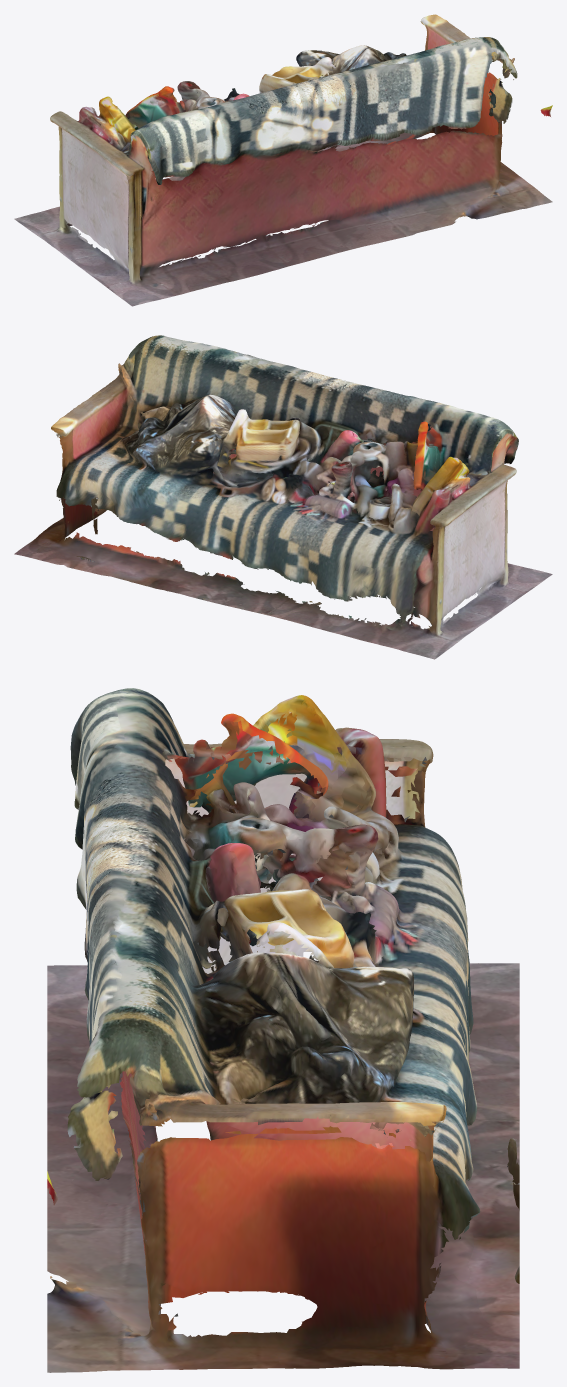
The model's file is modelo.glb.
3 renders of one model, top to bottom at view 1: azimuth 30°, elevation 25°; view 2: azimuth 150°, elevation 25°; view 3: azimuth 270°, elevation 25°, orthographic. The views are drawn at different scales.
Parts seen in each view (by area): view 1: Object_2; view 2: Object_2; view 3: Object_2.
Boxes of the visible parts, x1,y1,x2,y2 form: Object_2: (14,14,552,306); Object_2: (14,335,552,659); Object_2: (47,688,519,1372).
Bounding box in the file's own units: 2.15 × 0.8102 × 1.05.
1 material, 1 textured.
